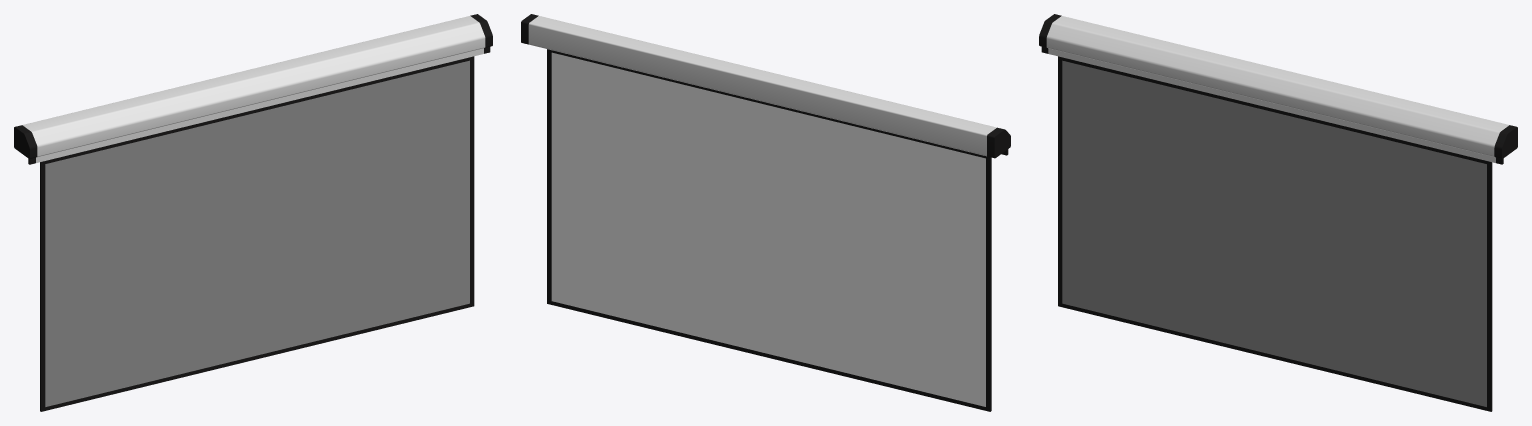
Rendered from Proyector screen.FBX.
3 views of the same model, side by side, from view 1: azimuth 30°, elevation 25°; view 2: azimuth 150°, elevation 25°; view 3: azimuth 330°, elevation 25° (orthographic). The views are drawn at different scales.
Parts seen in each view (by area): view 1: Proyector screen; view 2: Proyector screen; view 3: Proyector screen.
Boxes of the visible parts, x1=… form: Proyector screen: x1=14, y1=14, x2=492, y2=411; Proyector screen: x1=521, y1=14, x2=1010, y2=411; Proyector screen: x1=1039, y1=14, x2=1517, y2=411.
Bounding box in the file's own units: 332 × 192 × 19.65.
2 materials, 1 textured.
